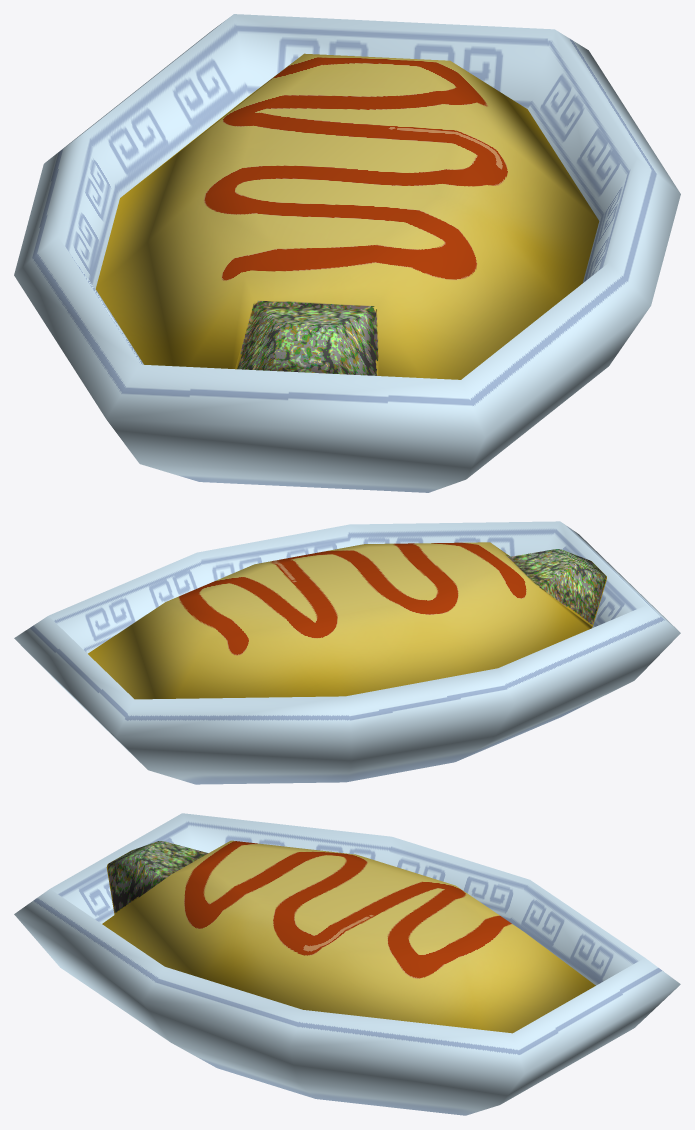
File: egg.glb
3 views of the same model, one above another, from view 1: azimuth 30°, elevation 25°; view 2: azimuth 150°, elevation 25°; view 3: azimuth 270°, elevation 25° (orthographic). The views are drawn at different scales.
Visible parts, largest first — view 1: Circle.003, Circle.002; view 2: Circle.002, Circle.003; view 3: Circle.002, Circle.003.
Boxes of the visible parts, x1,y1,x2,y2 form: Circle.003: (96, 53, 599, 379); Circle.002: (14, 14, 680, 492); Circle.002: (14, 521, 680, 784); Circle.003: (88, 542, 606, 699); Circle.002: (14, 813, 680, 1115); Circle.003: (102, 840, 595, 1033).
Bounding box in the file's own units: 0.4601 × 0.1226 × 0.5212.
Materials: 2 (2 with a texture image).
